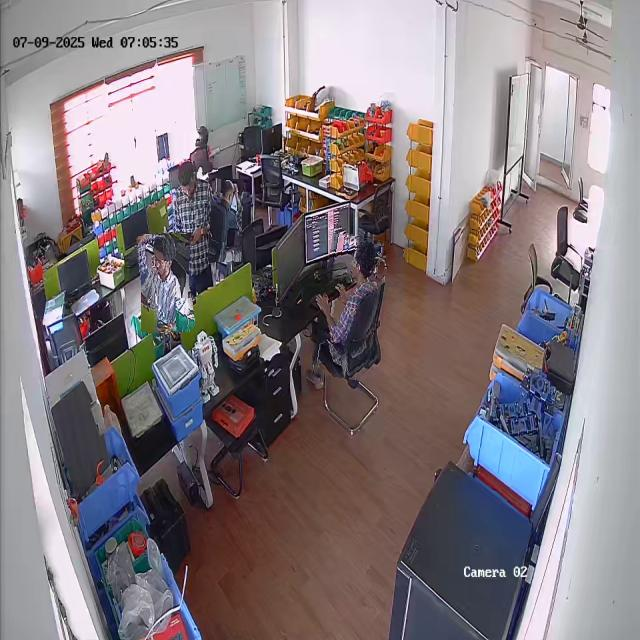person: (317, 235, 383, 380), (168, 161, 217, 298), (138, 233, 193, 333), (209, 179, 243, 262)
